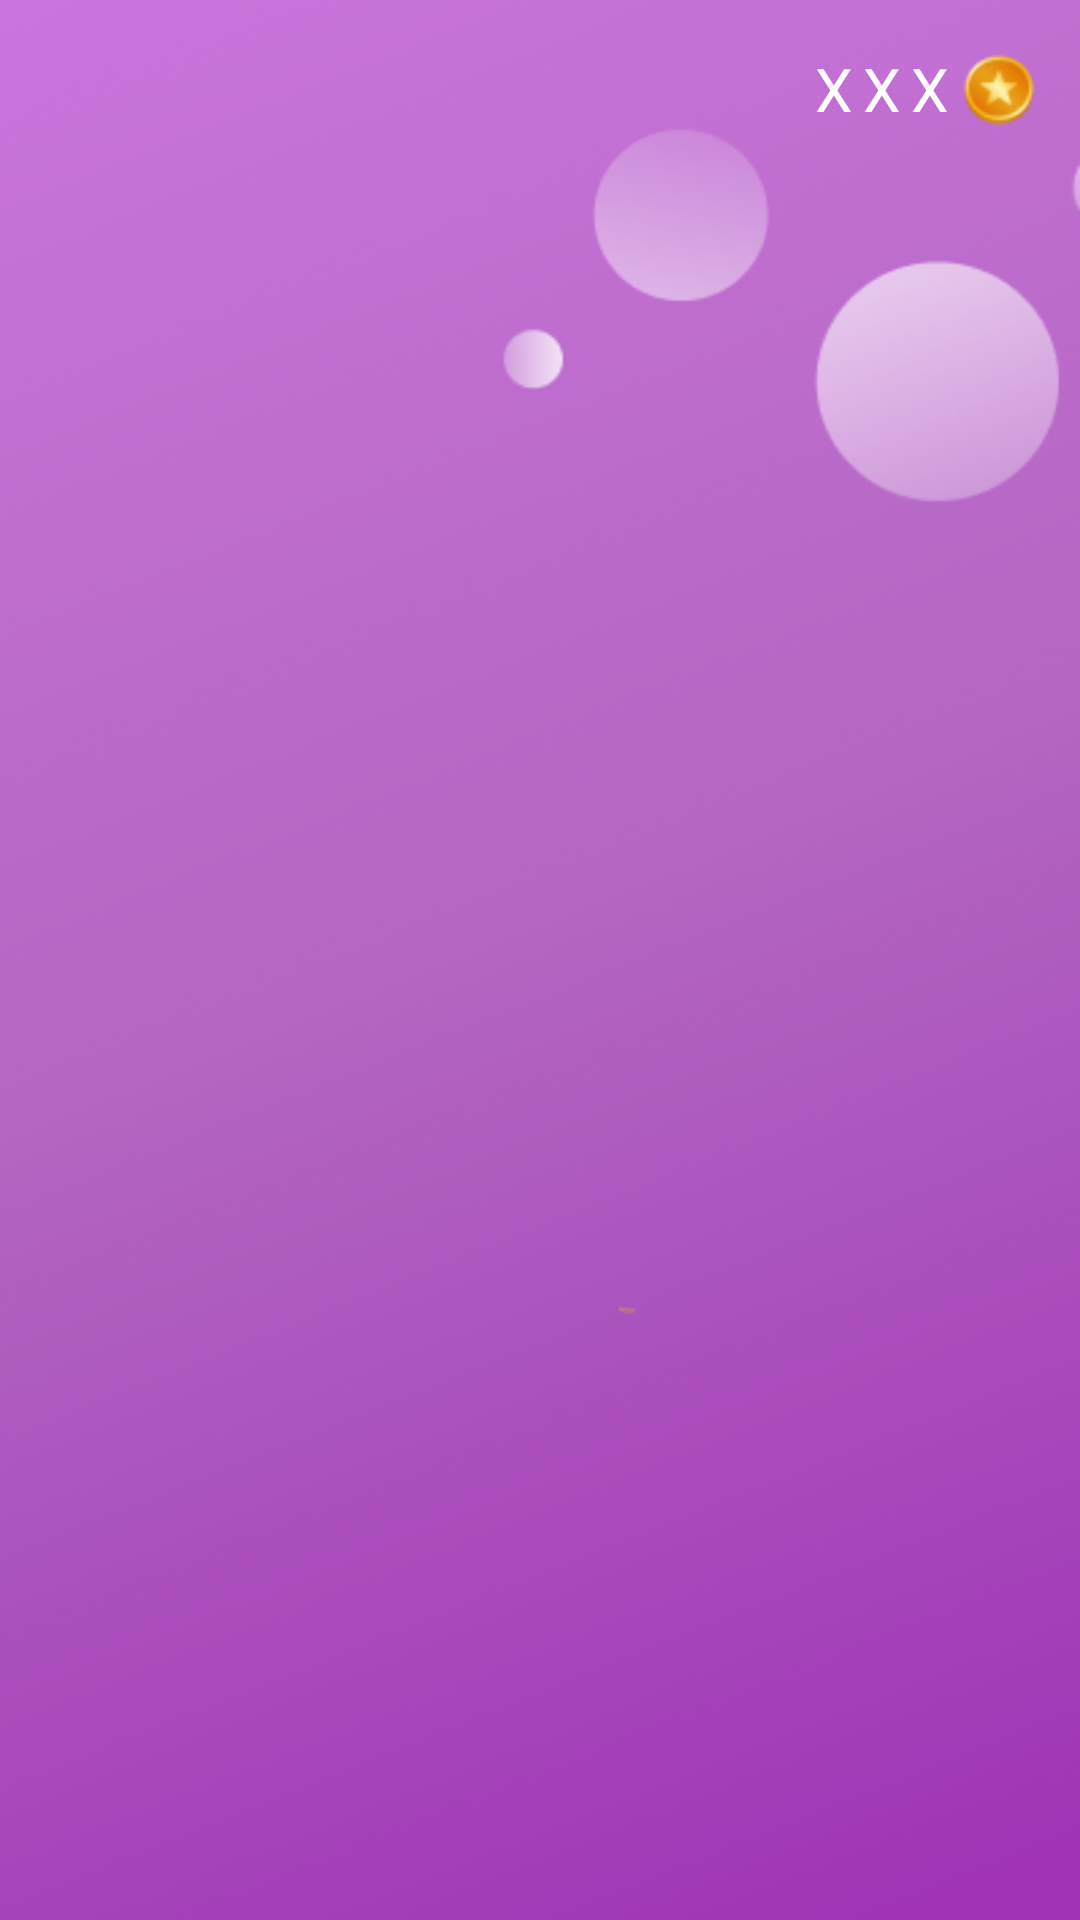

Icon bounding boxes for this 1080*1920 phone screenshot, format (x1, y1, x2, y2):
coins: (963, 55, 1035, 126)
